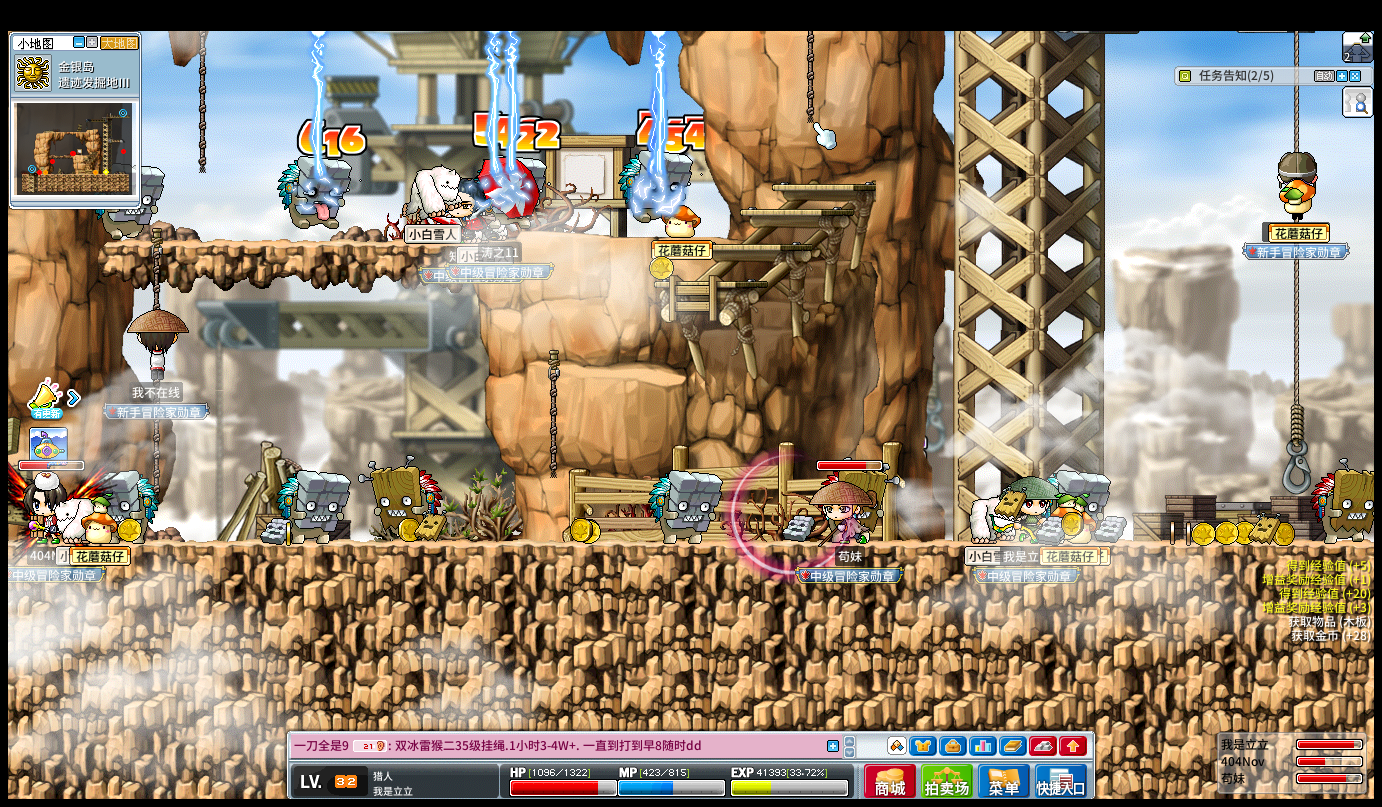floor: (103, 236, 468, 249), (579, 364, 687, 385), (599, 232, 738, 240), (650, 279, 765, 287), (705, 243, 810, 251), (736, 207, 848, 214), (771, 184, 874, 191)
monster: (364, 458, 441, 541), (276, 155, 351, 240), (648, 469, 723, 543), (279, 470, 350, 544), (620, 150, 691, 224), (1313, 462, 1378, 541), (481, 154, 546, 219), (105, 471, 159, 541), (138, 163, 166, 239)
rope: (546, 350, 561, 482), (1291, 257, 1302, 406), (198, 30, 207, 173), (150, 230, 162, 306), (1292, 29, 1299, 148), (805, 29, 813, 123), (154, 417, 164, 488), (1289, 400, 1304, 444), (153, 419, 160, 486)
